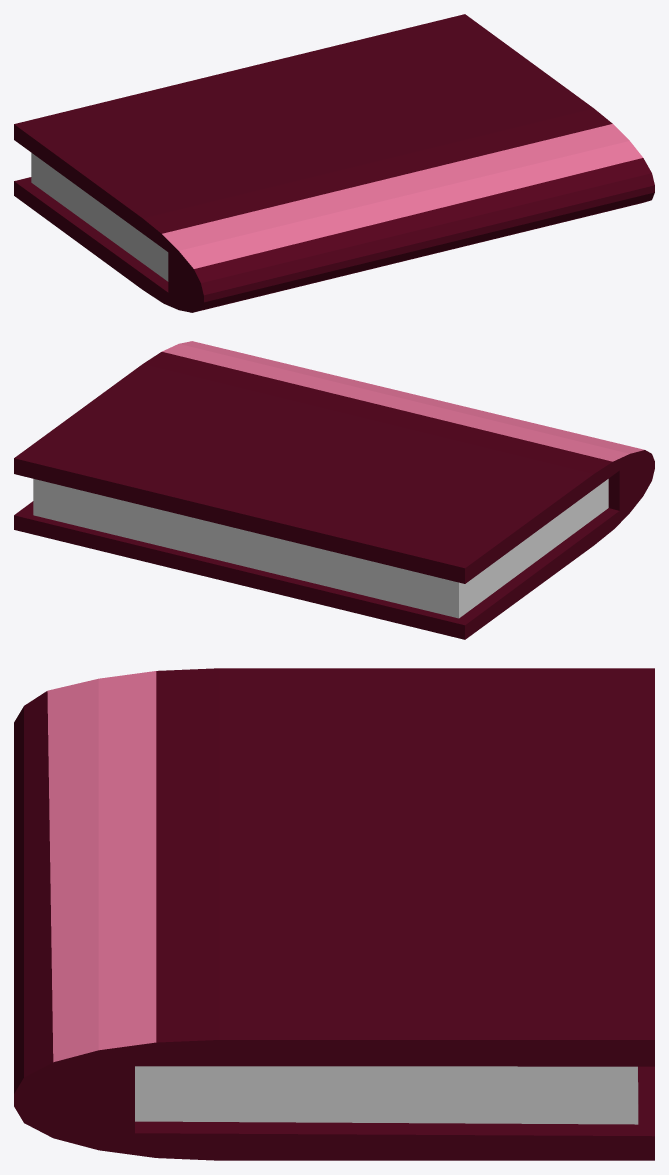
Rendered from journal.fbx.
3 renders of one model, top to bottom at view 1: azimuth 30°, elevation 25°; view 2: azimuth 150°, elevation 25°; view 3: azimuth 270°, elevation 25°, orthographic. The views are drawn at different scales.
Visible parts, largest first — view 1: Cube; view 2: Cube; view 3: Cube.
Part boxes in pixels (left/top/right/bottom): Cube: left=14, top=14, right=654, bottom=312; Cube: left=14, top=341, right=654, bottom=639; Cube: left=14, top=668, right=654, bottom=1160.
Bounding box in the file's own units: 904 × 137 × 659.
